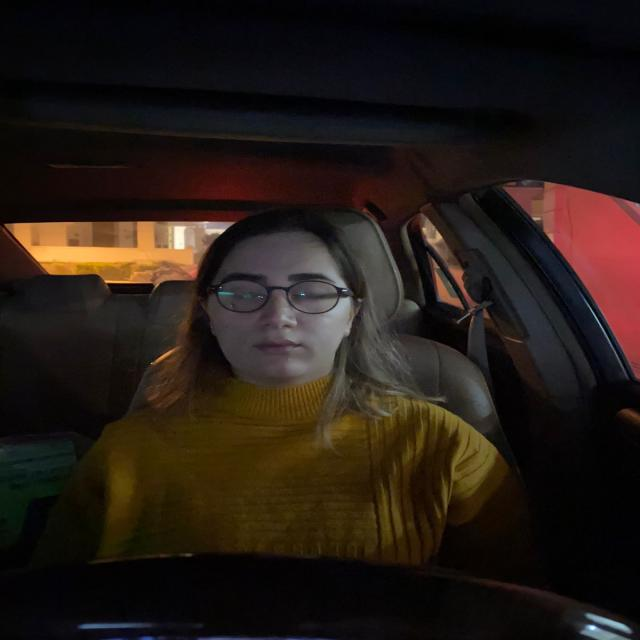drowsy: (187, 203, 366, 393)
